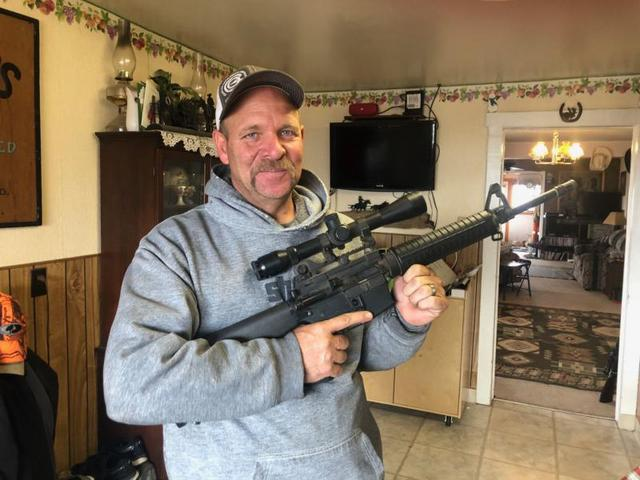rifle: (160, 173, 578, 428)
